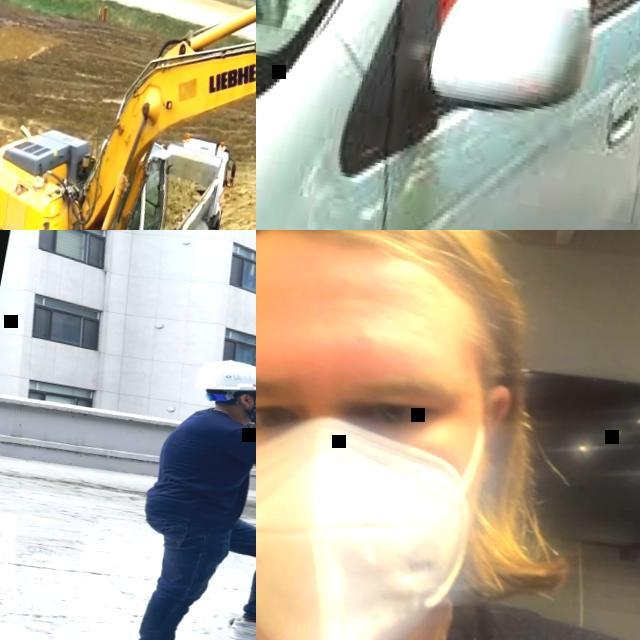helmet: (193, 353, 256, 403)
